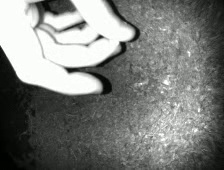corn: (108, 36, 121, 47)
